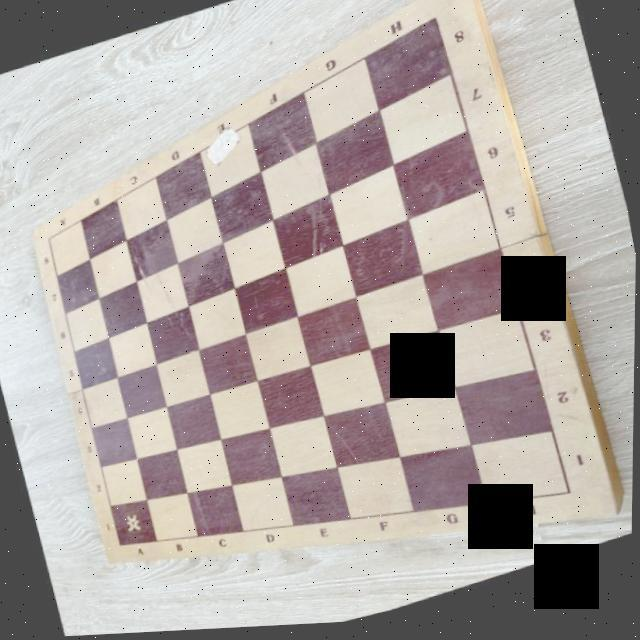chess-table-corners: (557, 488, 584, 510), (424, 13, 443, 33), (42, 233, 56, 246), (114, 540, 128, 552)
